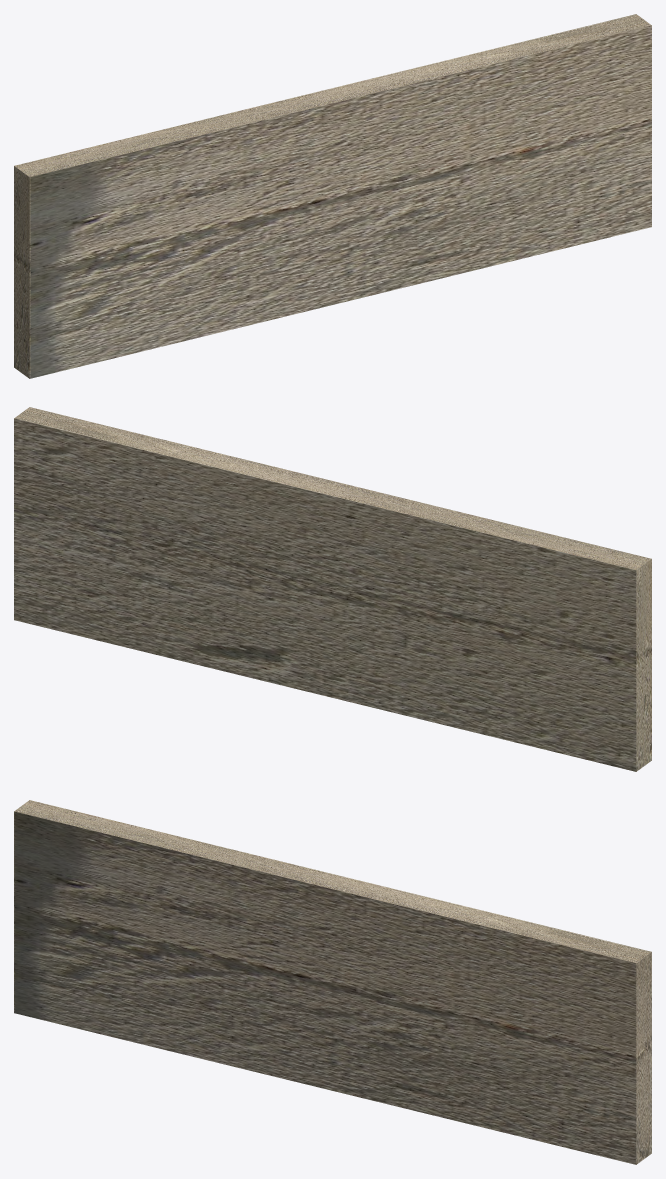
The model's file is Walls.glb.
3 views of the same model, one above another, from view 1: azimuth 30°, elevation 25°; view 2: azimuth 150°, elevation 25°; view 3: azimuth 330°, elevation 25° (orthographic).
Visible parts, largest first — view 1: Cube; view 2: Cube; view 3: Cube.
Part boxes in pixels (x1,y1,x2,y2): Cube: (14, 14, 651, 378); Cube: (14, 407, 651, 771); Cube: (14, 800, 651, 1164).
Size of the model in its own units: 18.12 by 5.61 by 0.7899.
Materials: 1 (1 with a texture image).
